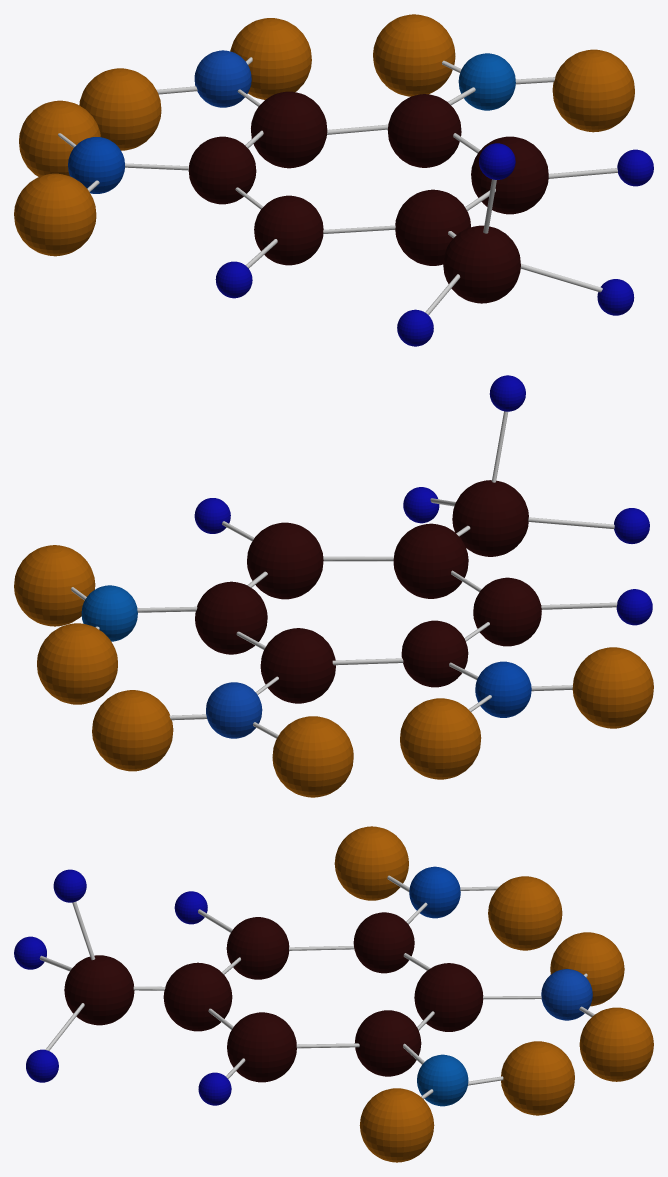
Rendered from TNT.obj.
3 renders of one model, top to bottom at view 1: azimuth 30°, elevation 25°; view 2: azimuth 150°, elevation 25°; view 3: azimuth 270°, elevation 25°, orthographic. The views are drawn at different scales.
Parts seen in each view (by area): view 1: Sphere.010, Sphere.020_Sphere.022, Sphere.019_Sphere.021, Sphere.018_Sphere.020, Sphere.009, Sphere.016_Sphere.018, Sphere.005, Sphere.007, Sphere.017_Sphere.019, Sphere.012, Sphere.006, Sphere.008 (+9 smaller); view 2: Sphere.017_Sphere.019, Sphere.019_Sphere.021, Sphere.016_Sphere.018, Sphere.010, Sphere.018_Sphere.020, Sphere.020_Sphere.022, Sphere.004, Sphere.009, Sphere.005, Sphere.012, Sphere.007, Sphere.006 (+9 smaller); view 3: Sphere.016_Sphere.018, Sphere.020_Sphere.022, Sphere.017_Sphere.019, Sphere.019_Sphere.021, Sphere.010, Sphere.004, Sphere.009, Sphere.005, Sphere.012, Sphere.007, Sphere.018_Sphere.020, Sphere.006 (+9 smaller).
Part boxes in pixels (x1,y1,x2,y2): Sphere.010: [14, 173, 96, 256]; Sphere.020_Sphere.022: [552, 49, 634, 132]; Sphere.019_Sphere.021: [373, 14, 455, 96]; Sphere.018_Sphere.020: [79, 68, 161, 150]; Sphere.009: [443, 225, 520, 303]; Sphere.016_Sphere.018: [230, 18, 311, 99]; Sphere.005: [251, 91, 327, 168]; Sphere.007: [387, 94, 461, 167]; Sphere.017_Sphere.019: [19, 100, 100, 176]; Sphere.012: [395, 189, 470, 265]; Sphere.006: [254, 195, 323, 265]; Sphere.008: [188, 136, 256, 204]; Sphere.017_Sphere.019: [400, 698, 481, 779]; Sphere.019_Sphere.021: [37, 623, 117, 704]; Sphere.016_Sphere.018: [92, 690, 173, 771]; Sphere.010: [572, 647, 653, 728]; Sphere.018_Sphere.020: [272, 716, 353, 797]; Sphere.020_Sphere.022: [14, 545, 95, 626]; Sphere.004: [247, 522, 323, 599]; Sphere.009: [452, 480, 528, 556]; Sphere.005: [260, 628, 335, 703]; Sphere.012: [393, 523, 468, 598]; Sphere.007: [195, 581, 267, 654]; Sphere.006: [473, 577, 541, 646]; Sphere.016_Sphere.018: [579, 1007, 653, 1081]; Sphere.020_Sphere.022: [359, 1088, 434, 1162]; Sphere.017_Sphere.019: [488, 876, 562, 950]; Sphere.019_Sphere.021: [501, 1041, 574, 1115]; Sphere.010: [334, 826, 408, 900]; Sphere.004: [227, 1012, 296, 1082]; Sphere.009: [64, 955, 134, 1025]; Sphere.005: [414, 963, 483, 1031]; Sphere.012: [163, 962, 232, 1031]; Sphere.007: [354, 1010, 421, 1076]; Sphere.018_Sphere.020: [550, 932, 624, 1006]; Sphere.006: [226, 917, 289, 979].
Bounding box in the file's own units: 18.09 × 5.34 × 17.84.
